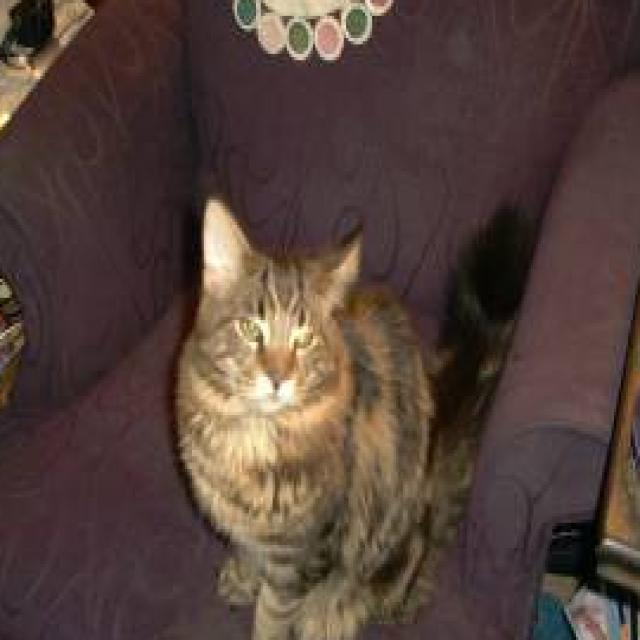Maine Coon: (171, 184, 531, 640)
